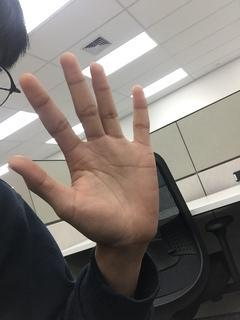hand: (8, 50, 162, 244)
